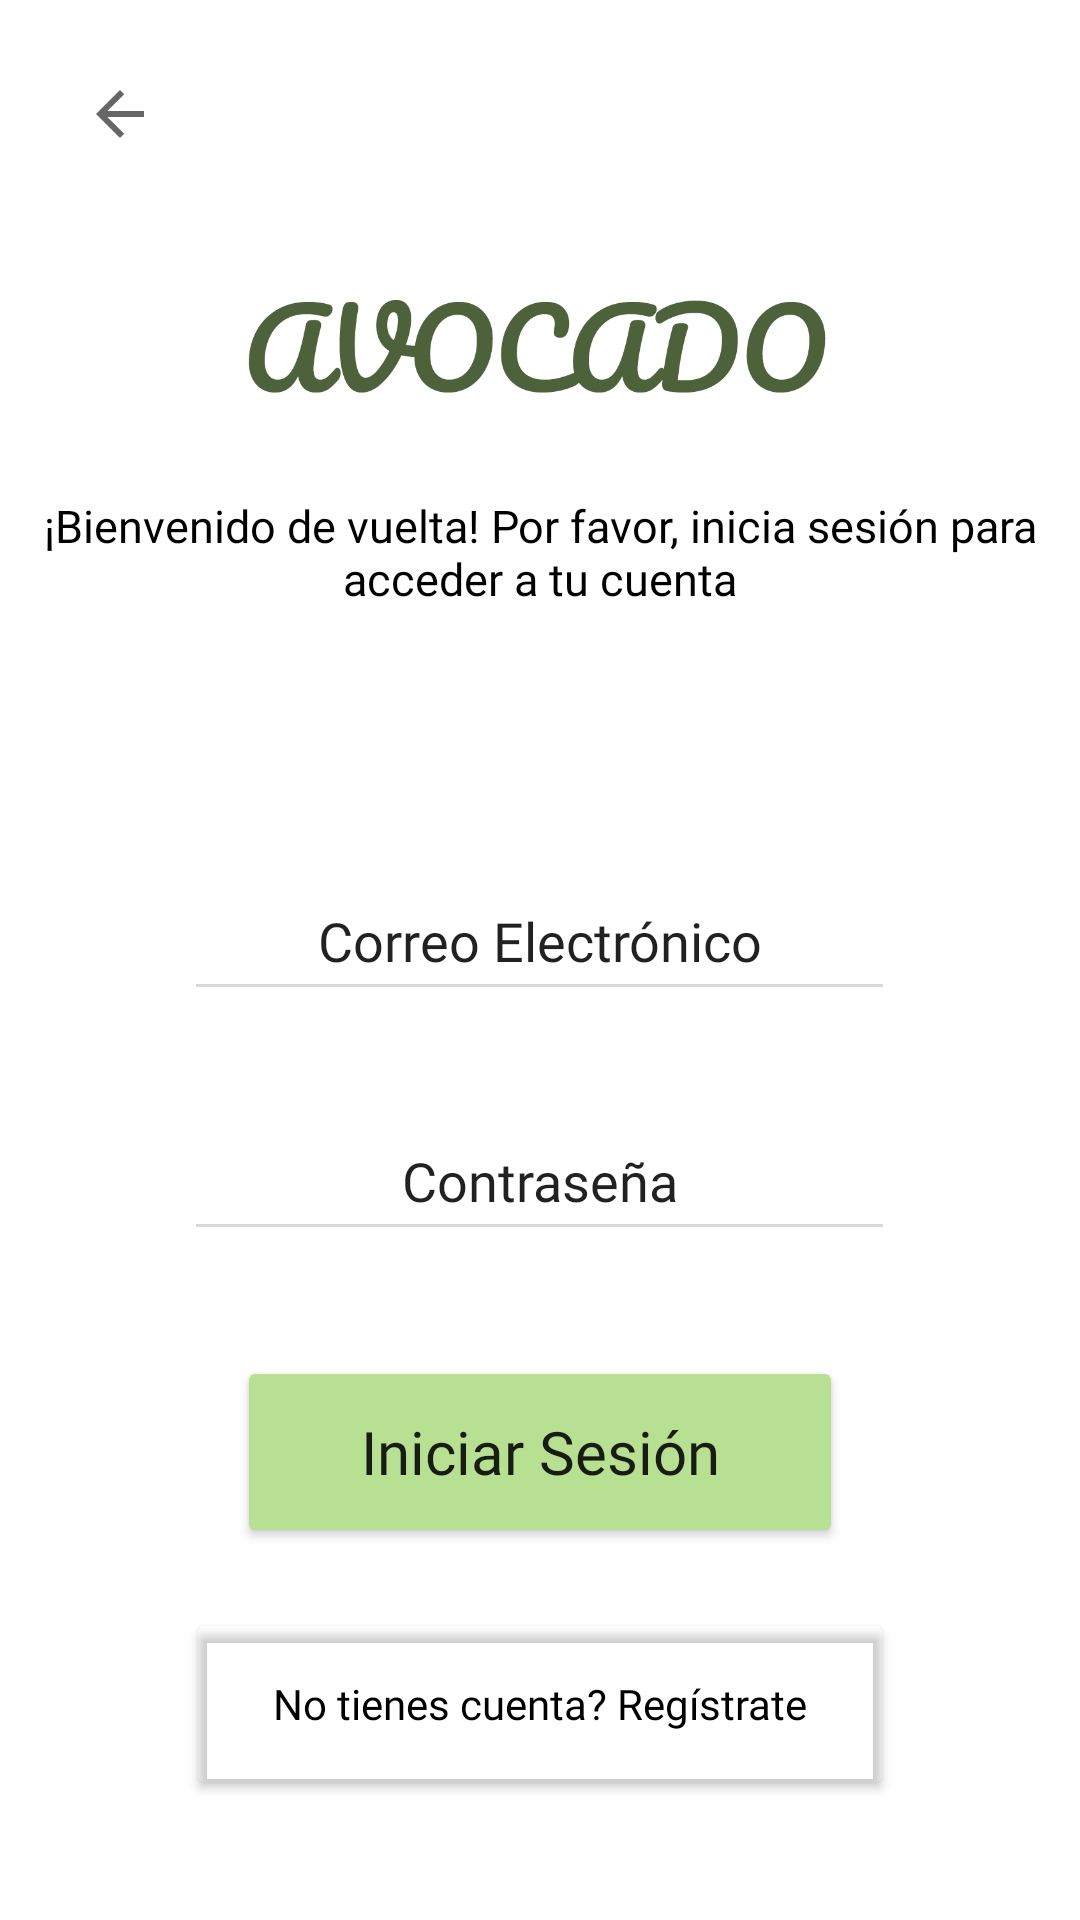

Icon bounding boxes for this 1080 × 1920 phone screenshot, format (x1, y1, x2, y2):
Botón de volver al home: (96, 90, 144, 138)
